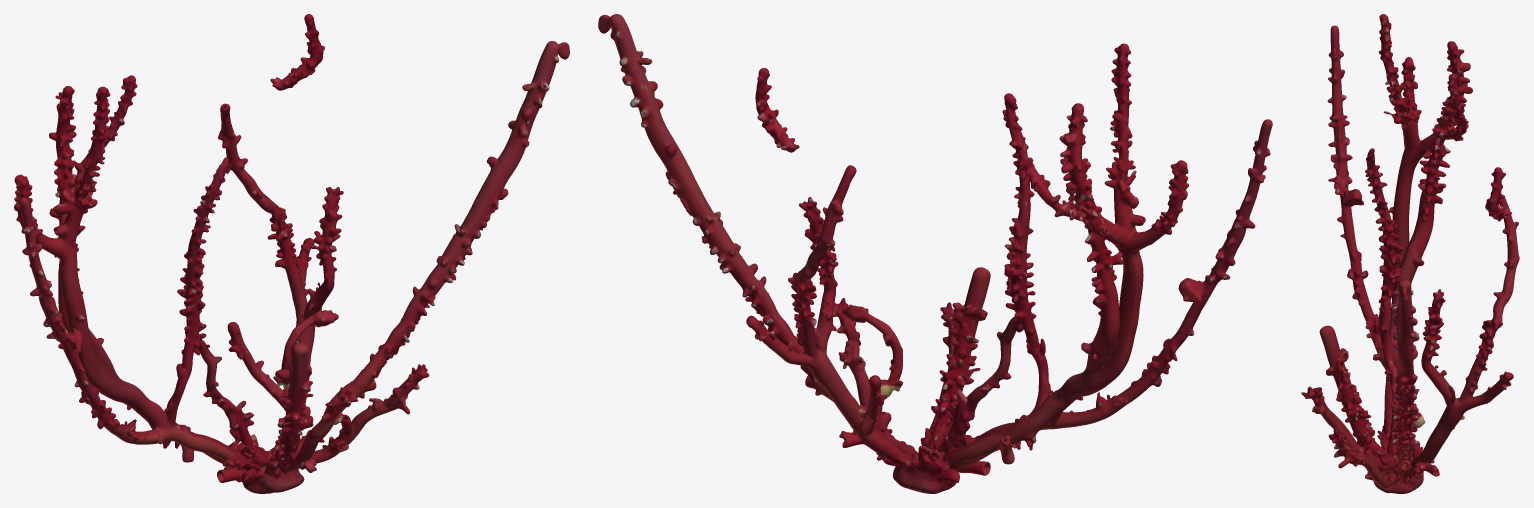
The model's file is coral_whip.glb.
The picture shows the model from 3 angles, left to right: view 1: azimuth 30°, elevation 25°; view 2: azimuth 150°, elevation 25°; view 3: azimuth 270°, elevation 25°; orthographic projection. The views are drawn at different scales.
Visible parts, largest first — view 1: tripo_node_cb0f4e25-2d42-4b8b-930a-3761edda576b; view 2: tripo_node_cb0f4e25-2d42-4b8b-930a-3761edda576b; view 3: tripo_node_cb0f4e25-2d42-4b8b-930a-3761edda576b.
Part boxes in pixels (bbox=[...]): tripo_node_cb0f4e25-2d42-4b8b-930a-3761edda576b: bbox=[14, 14, 569, 493]; tripo_node_cb0f4e25-2d42-4b8b-930a-3761edda576b: bbox=[598, 14, 1272, 493]; tripo_node_cb0f4e25-2d42-4b8b-930a-3761edda576b: bbox=[1301, 14, 1519, 493].
Size of the model in its own units: 1 by 0.7237 by 0.3636.
1 material, 1 textured.
